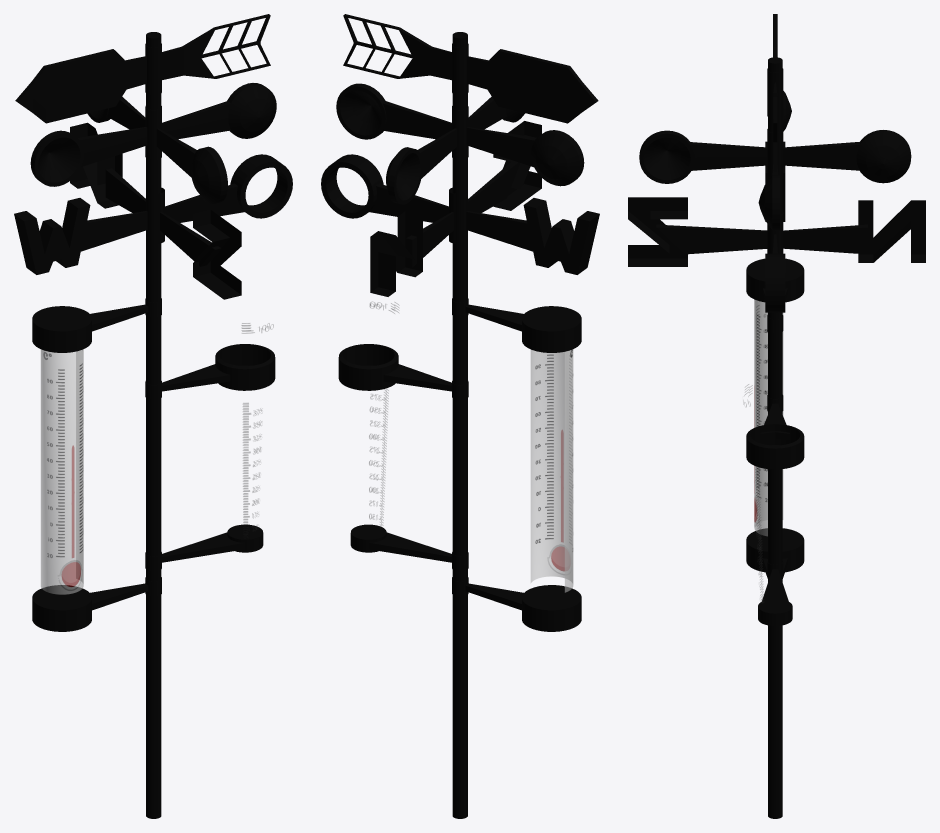
File: rain_gauge.fbx
The picture shows the model from 3 angles, left to right: view 1: azimuth 30°, elevation 25°; view 2: azimuth 150°, elevation 25°; view 3: azimuth 270°, elevation 25°; orthographic projection. The views are drawn at different scales.
Visible parts, largest first — view 1: compass, compass.001, Thermometer, Rain_gauge, direction, Support_frame_01, Support_frame_03, Support_frame_04, Support_frame_02, Rain; view 2: compass, compass.001, Thermometer, Rain_gauge, direction, Support_frame_01, Support_frame_04, Support_frame_03, Support_frame_02, Rain; view 3: compass, compass.001, Rain_gauge, Thermometer, Support_frame_01, Support_frame_03, Support_frame_04, Support_frame_02, direction.
Part boxes in pixels (<box>): compass: <box>14,122,292,299</box>; compass.001: <box>30,83,276,204</box>; Thermometer: <box>41,349,83,594</box>; Rain_gauge: <box>146,32,161,818</box>; direction: <box>15,14,270,123</box>; Support_frame_01: <box>145,344,275,400</box>; Support_frame_03: <box>32,298,161,352</box>; Support_frame_04: <box>32,577,161,631</box>; Support_frame_02: <box>145,524,263,571</box>; Rain: <box>241,323,273,537</box>; compass: <box>321,121,599,296</box>; compass.001: <box>336,83,584,204</box>; Thermometer: <box>530,349,573,592</box>; Rain_gauge: <box>452,32,467,818</box>; direction: <box>343,14,598,123</box>; Support_frame_01: <box>338,344,468,400</box>; Support_frame_04: <box>452,577,581,631</box>; Support_frame_03: <box>452,298,581,352</box>; Support_frame_02: <box>350,524,468,571</box>; Rain: <box>369,302,398,527</box>; compass: <box>628,141,925,312</box>; compass.001: <box>639,91,911,230</box>; Rain_gauge: <box>768,57,782,818</box>; Thermometer: <box>754,299,783,536</box>; Support_frame_01: <box>746,395,804,469</box>; Support_frame_03: <box>746,258,804,333</box>; Support_frame_04: <box>746,528,804,578</box>; Support_frame_02: <box>758,560,792,625</box>; direction: <box>767,14,783,171</box>.
Bounding box in the file's own units: 104 × 285 × 102.
